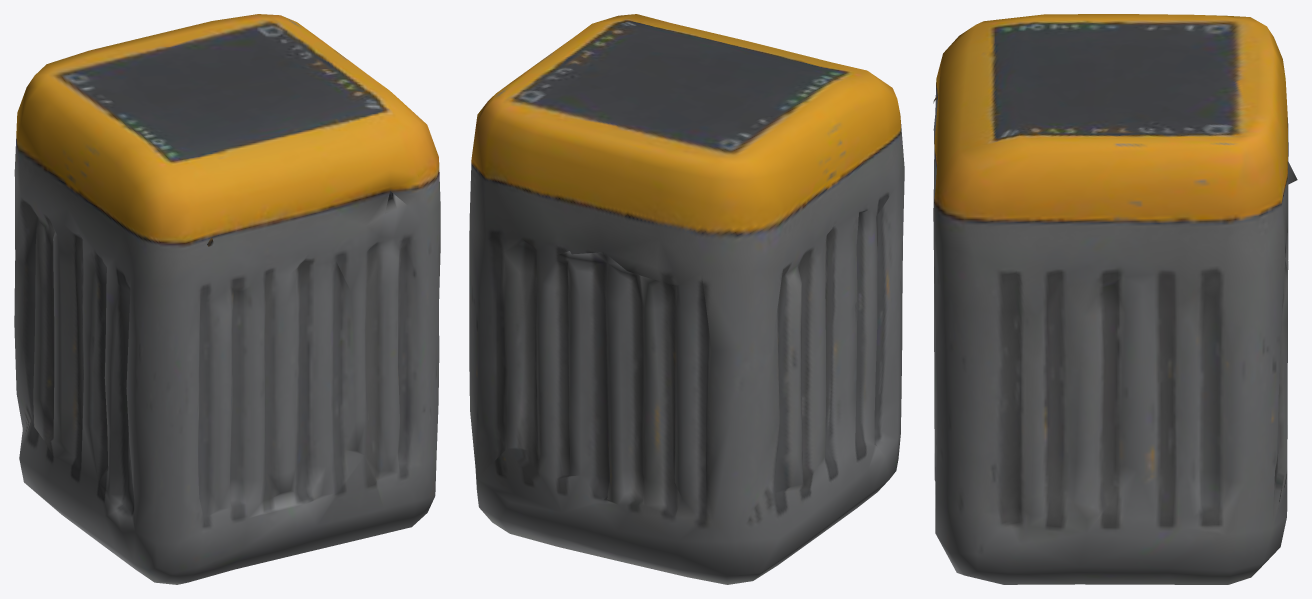
The model's file is 6335647-trash-bin-ribbed.glb.
3 renders of one model, left to right at view 1: azimuth 30°, elevation 25°; view 2: azimuth 150°, elevation 25°; view 3: azimuth 270°, elevation 25°, orthographic. The views are drawn at different scales.
Visible parts, largest first — view 1: Retopo_neural_node_8ae5af5c-cea2-43fa-b186-a61998c24a90; view 2: Retopo_neural_node_8ae5af5c-cea2-43fa-b186-a61998c24a90; view 3: Retopo_neural_node_8ae5af5c-cea2-43fa-b186-a61998c24a90.
Part boxes in pixels (bbox=[...]): Retopo_neural_node_8ae5af5c-cea2-43fa-b186-a61998c24a90: bbox=[14, 14, 440, 584]; Retopo_neural_node_8ae5af5c-cea2-43fa-b186-a61998c24a90: bbox=[469, 14, 904, 584]; Retopo_neural_node_8ae5af5c-cea2-43fa-b186-a61998c24a90: bbox=[933, 14, 1297, 584].
Bounding box in the file's own units: 0.6683 × 0.9489 × 0.658.
Materials: 1 (1 with a texture image).
